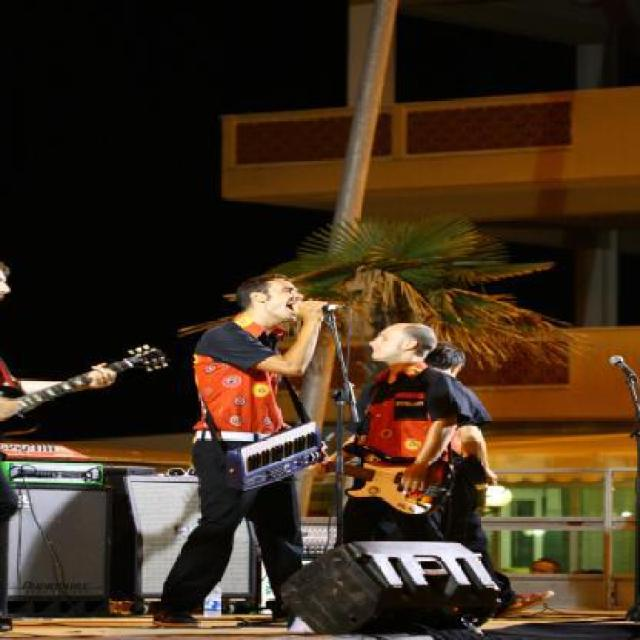Person: (181, 270, 336, 618), (328, 321, 468, 550), (434, 343, 495, 571)
